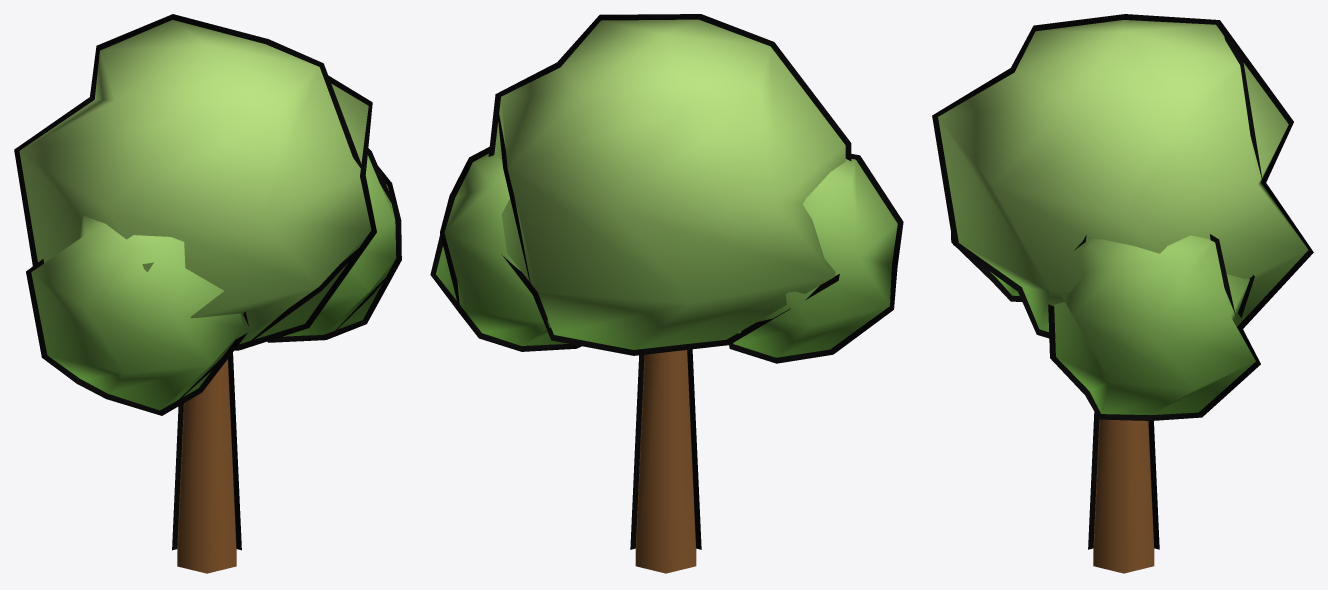
Rendered from BR_Baum_A.glb.
The picture shows the model from 3 angles, left to right: view 1: azimuth 30°, elevation 25°; view 2: azimuth 150°, elevation 25°; view 3: azimuth 270°, elevation 25°; orthographic projection. The views are drawn at different scales.
Visible parts, largest first — view 1: BR_Baum_A_Mesh, BR_Baum_A_Outline; view 2: BR_Baum_A_Mesh, BR_Baum_A_Outline; view 3: BR_Baum_A_Mesh, BR_Baum_A_Outline.
Part boxes in pixels (x1,y1,x2,y2): BR_Baum_A_Mesh: (19,20,396,573); BR_Baum_A_Outline: (14,14,401,550); BR_Baum_A_Mesh: (436,19,897,573); BR_Baum_A_Outline: (430,14,903,549); BR_Baum_A_Mesh: (938,20,1308,573); BR_Baum_A_Outline: (932,14,1313,549).
Bounding box in the file's own units: 2.64 × 3.33 × 2.17.
